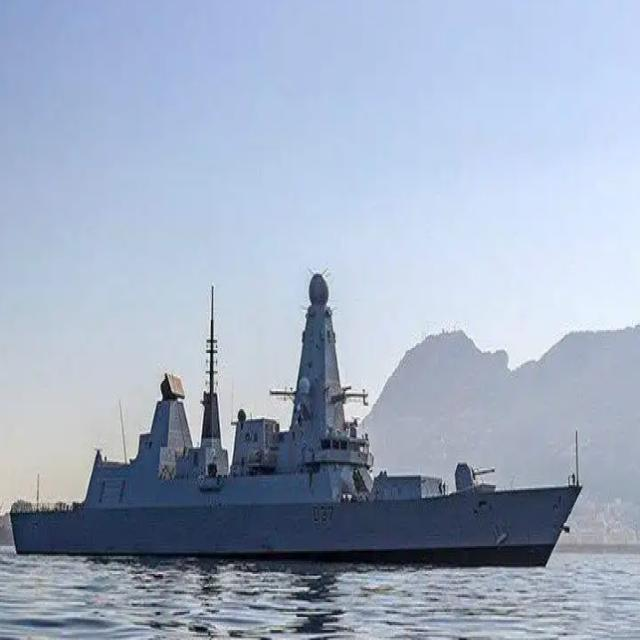navalvessels: (6, 237, 582, 570)
